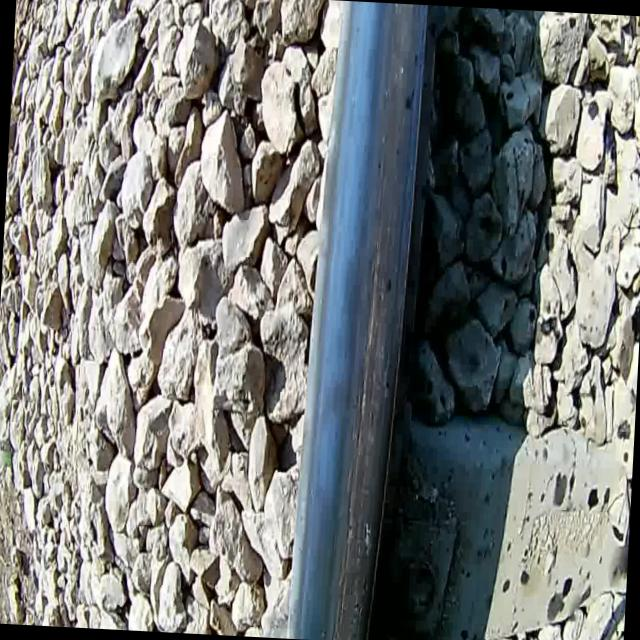Grooves: (327, 139, 394, 640)
